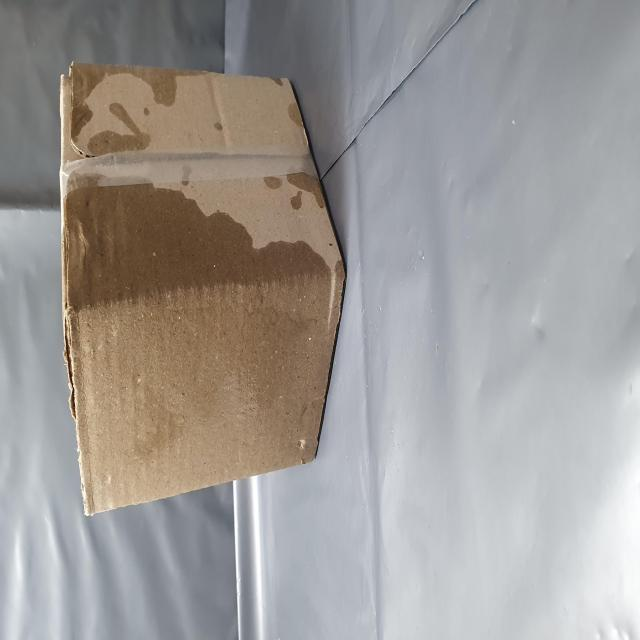wet: (72, 117, 263, 600)
